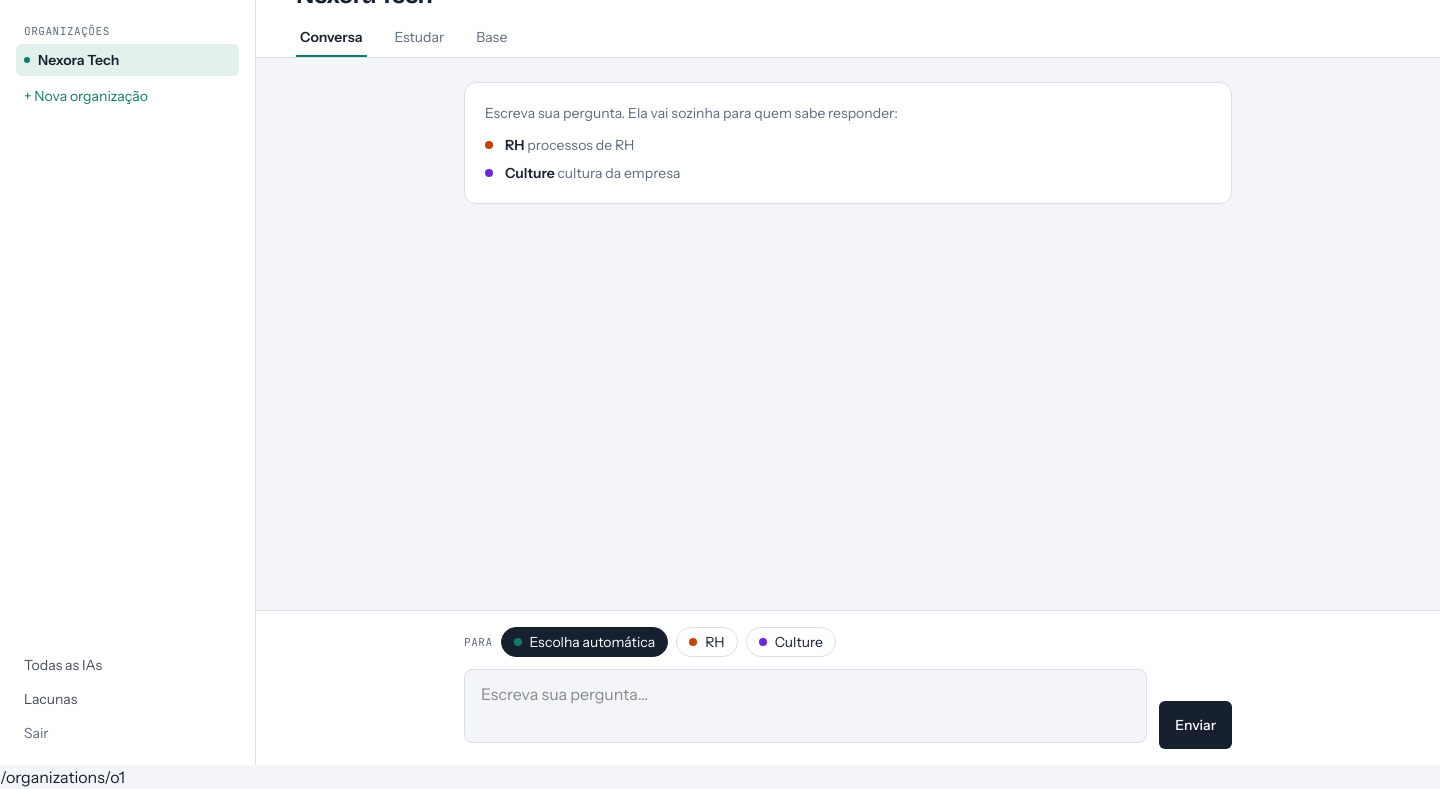
Test case: source preview › sources are grouped by document and the first chunk opens
The image size is (1440, 789).
(page scrolled)
Type "Como peço férias?" into the text box named "Mensagem" at coordinates (806, 706), box [464,669,1147,743]
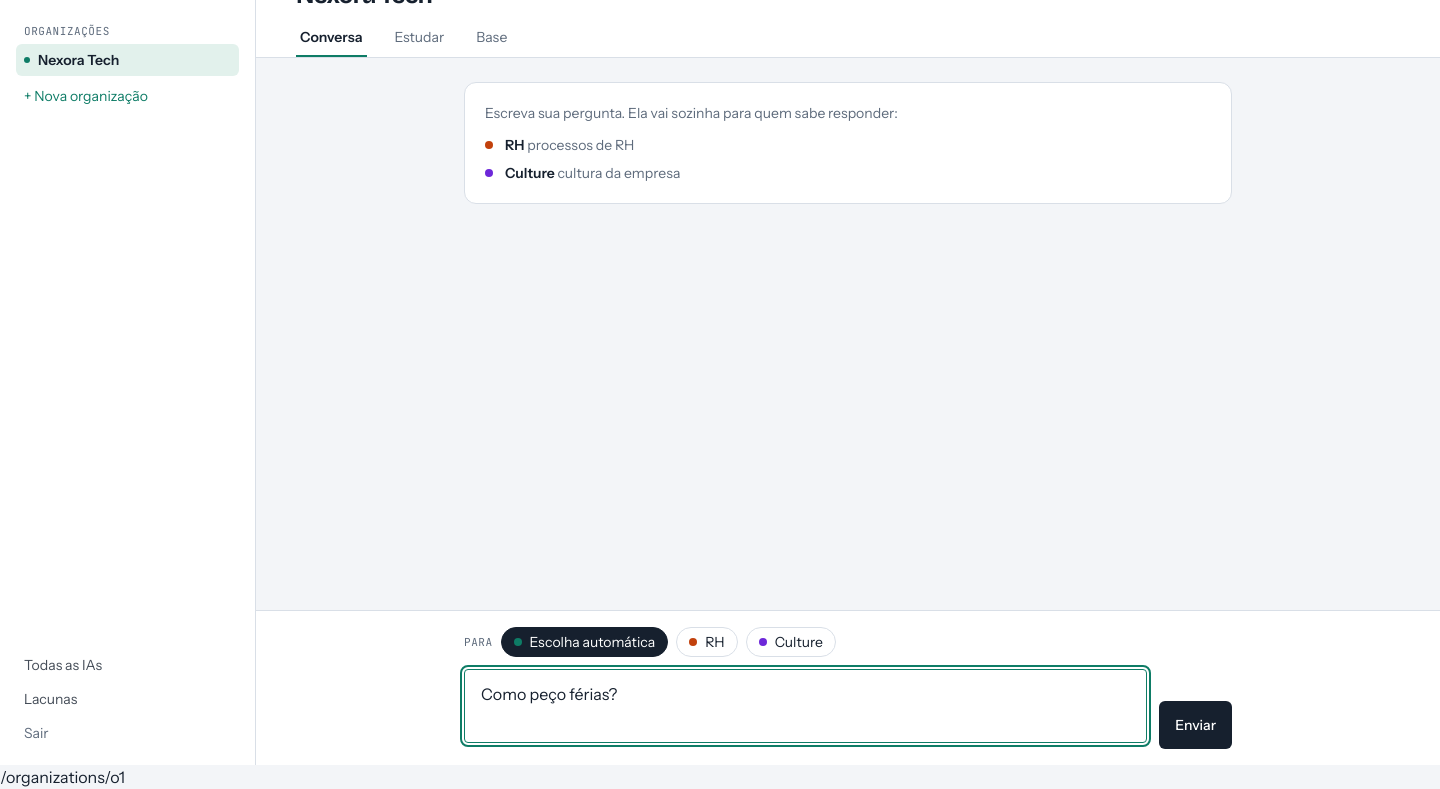
Click the button "Enviar" at coordinates (1196, 725), box [1159,701,1232,749]
(page scrolled)
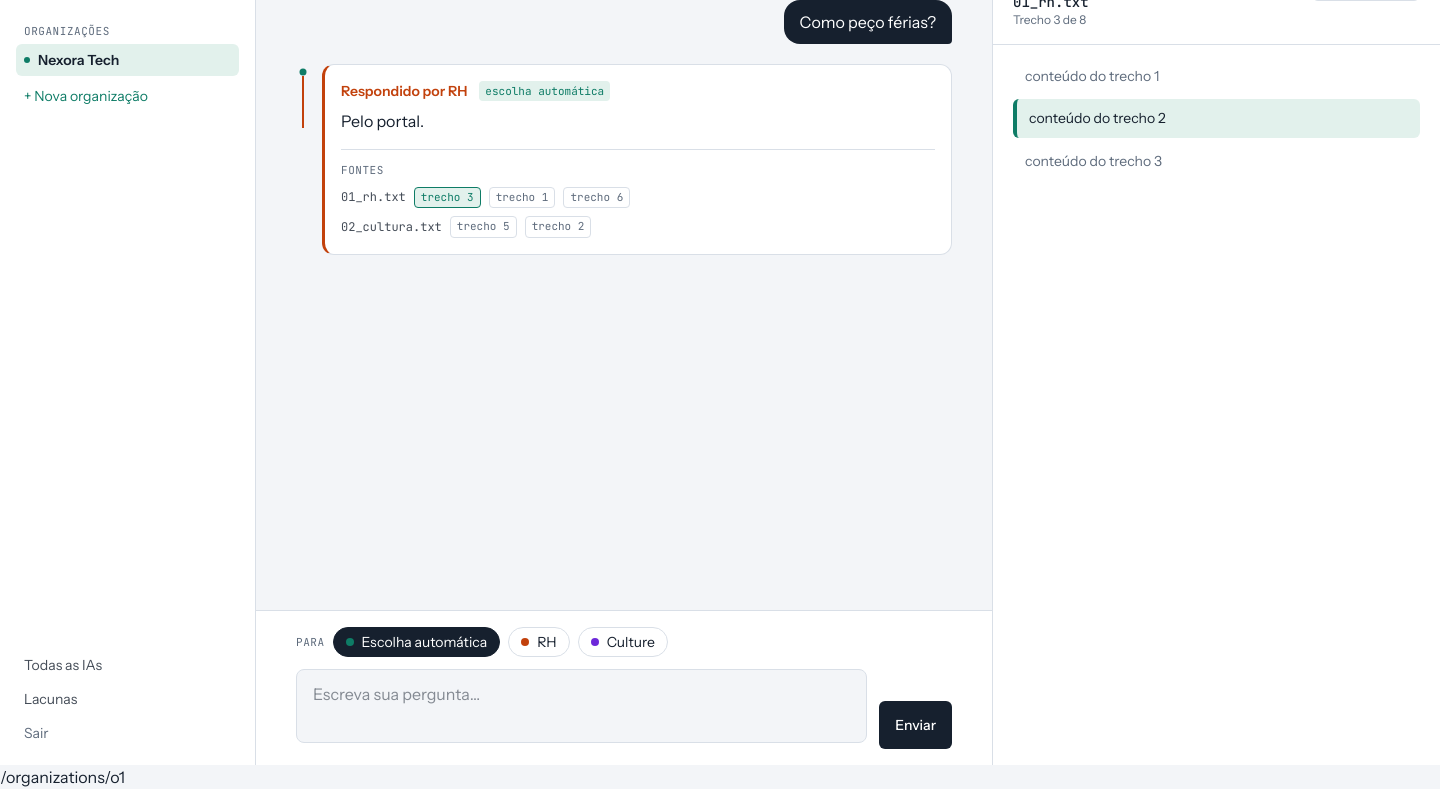
Expected: the text "01_rh.txt" is shown once, [341,189,406,205]
Expected: the text "02_cultura.txt" is shown once, [341,219,442,235]
Expected: the buttons read "trecho 3", "trecho 1", "trecho 6", in this order, [414,186,481,208]; [489,186,555,208]; [563,186,630,208]
